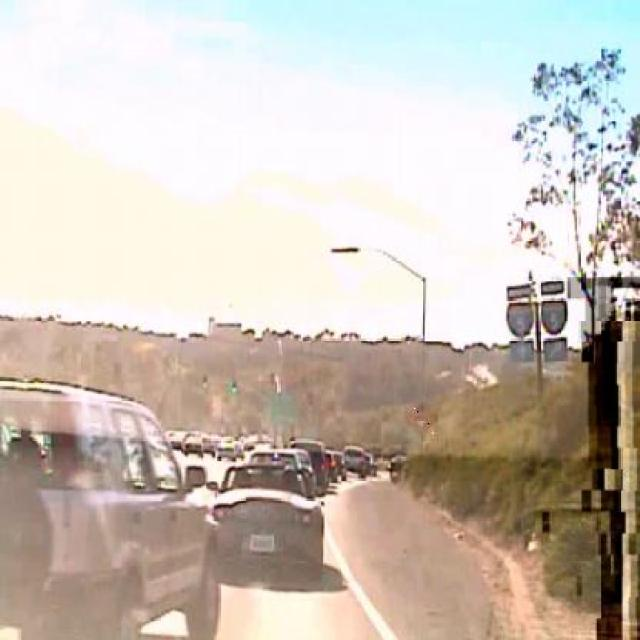yieldAhead: (406, 397, 437, 438)
